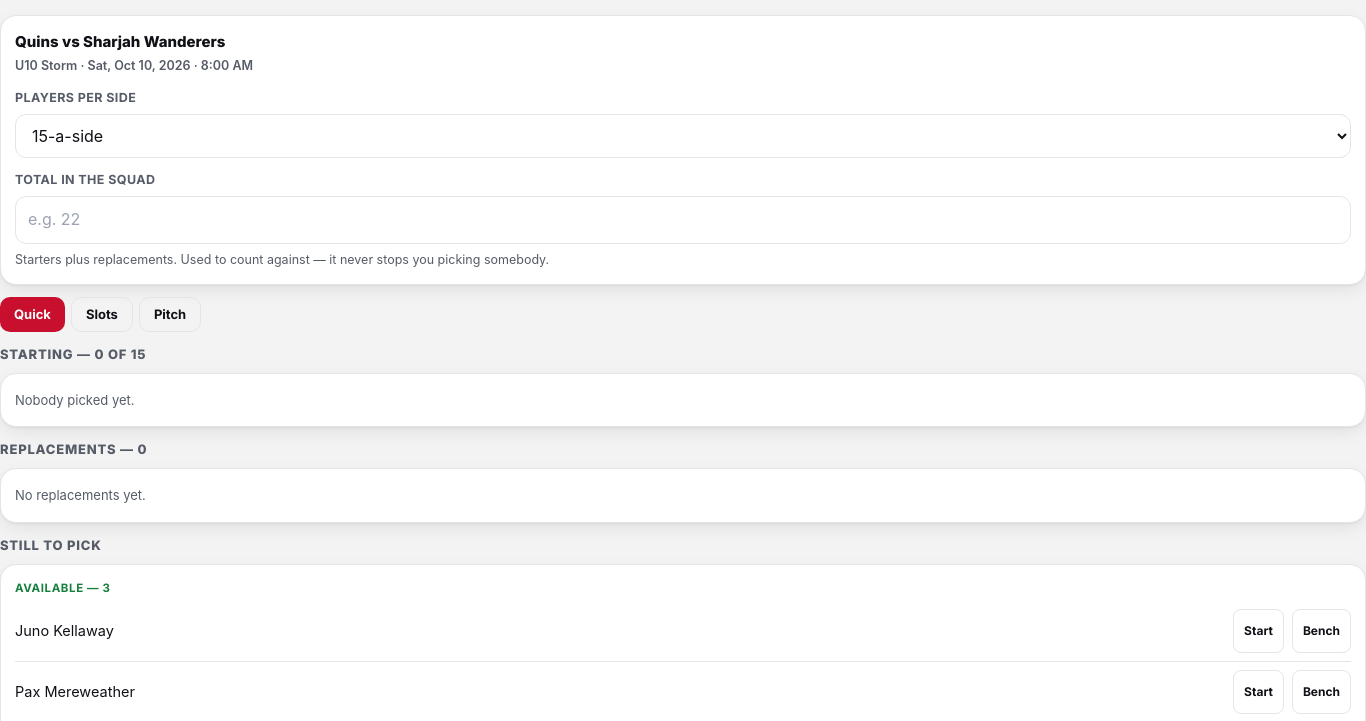
the slots view › fills the exact tapped shirt, not the first free one
This screenshot has width=1366, height=721.
expect the button "Quick" is shown: met, box [0,297,65,332]
Select "7-a-side" in the dropdown labelled "Players per side" at [683, 136], box [15,114,1351,158]
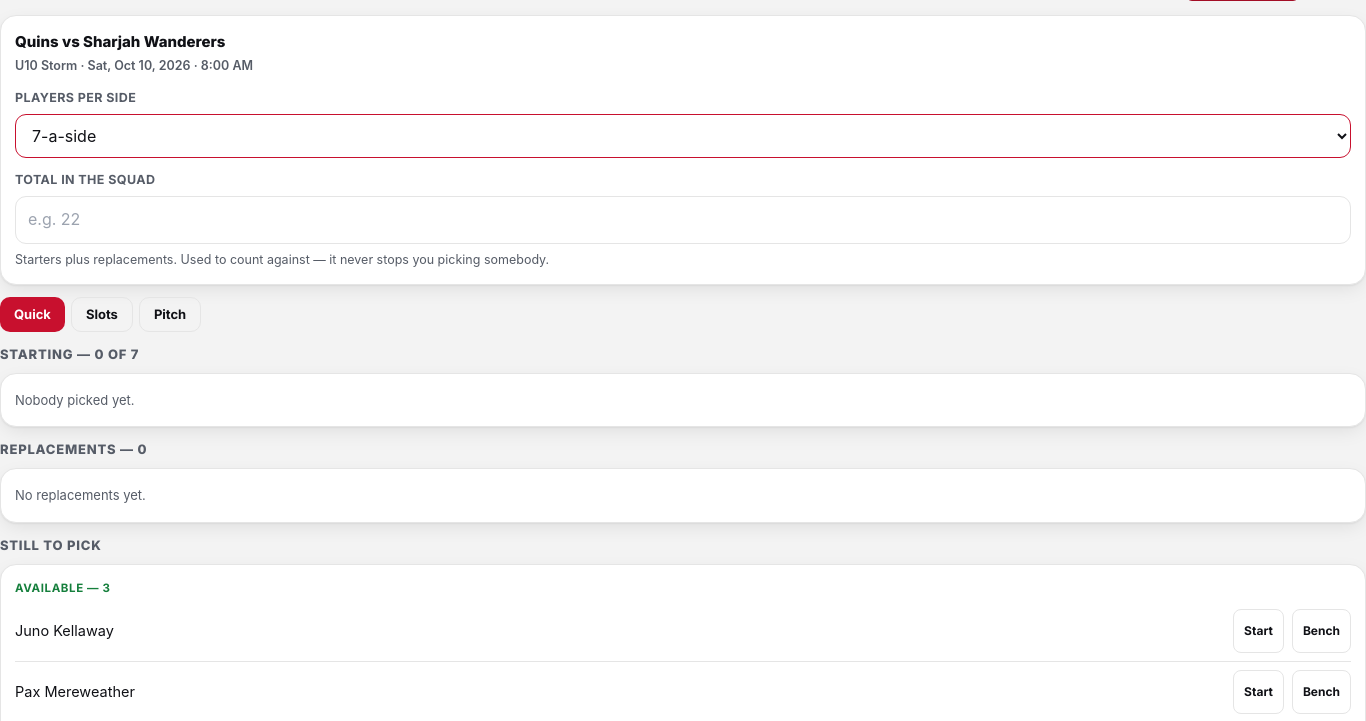
Click the button "Slots" at [102, 314], box [71,297,133,332]
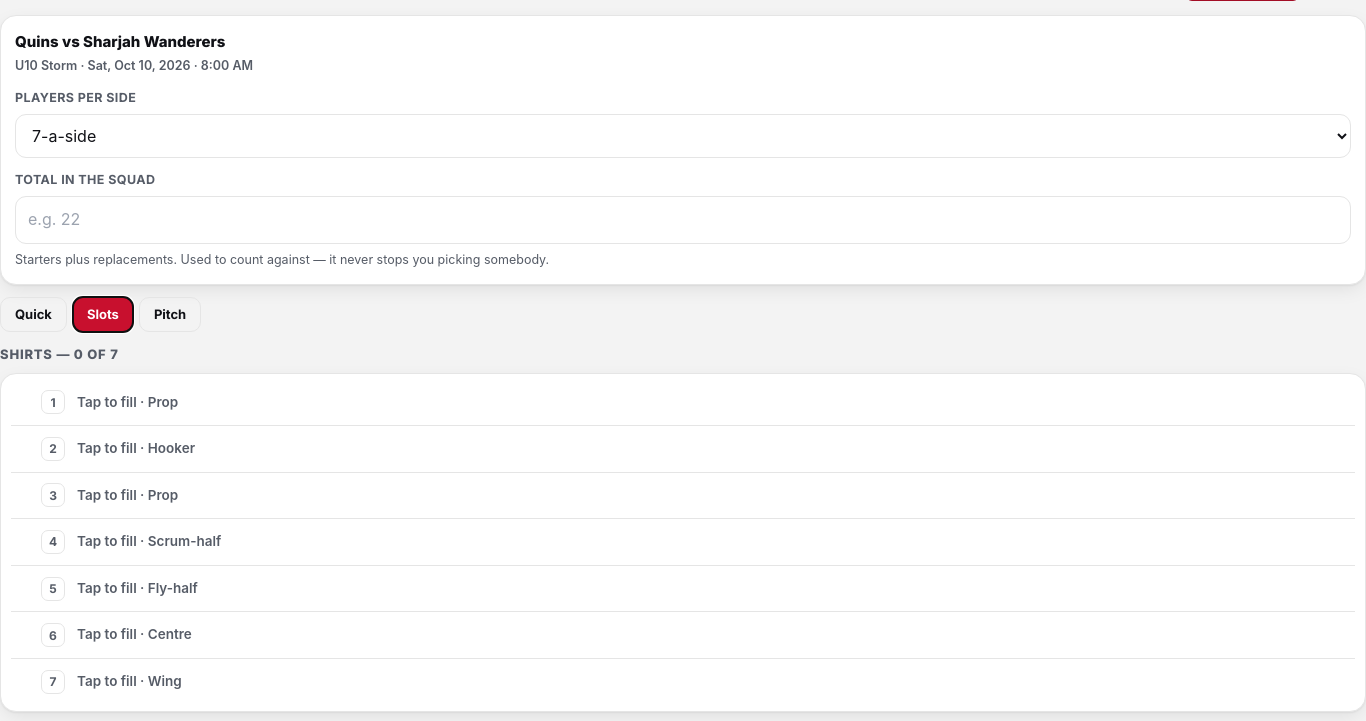
Click the button "Tap to fill · Fly-half" at [137, 588], box [73,574,1355,604]
(page scrolled)
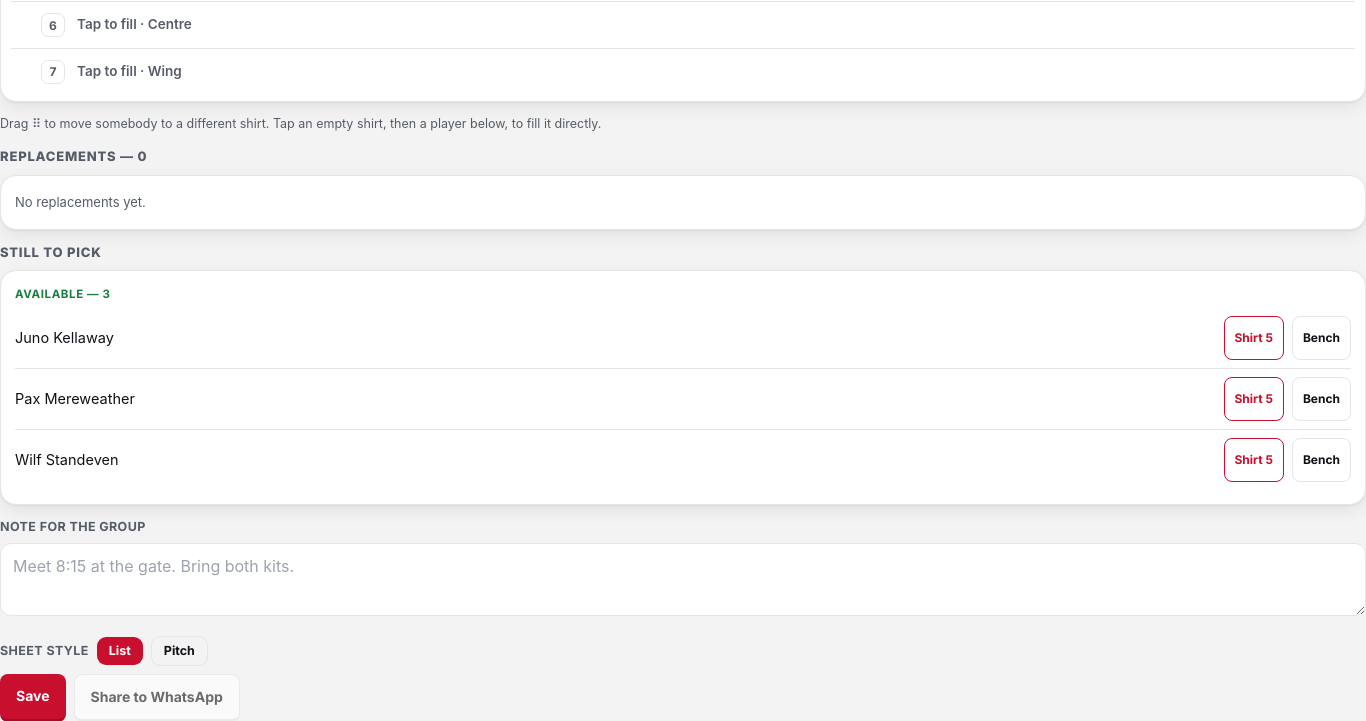
Click the button with aria-label "Give shirt 5 to Juno Kellaway" at [1254, 338], box [1224,316,1284,360]
(page scrolled)
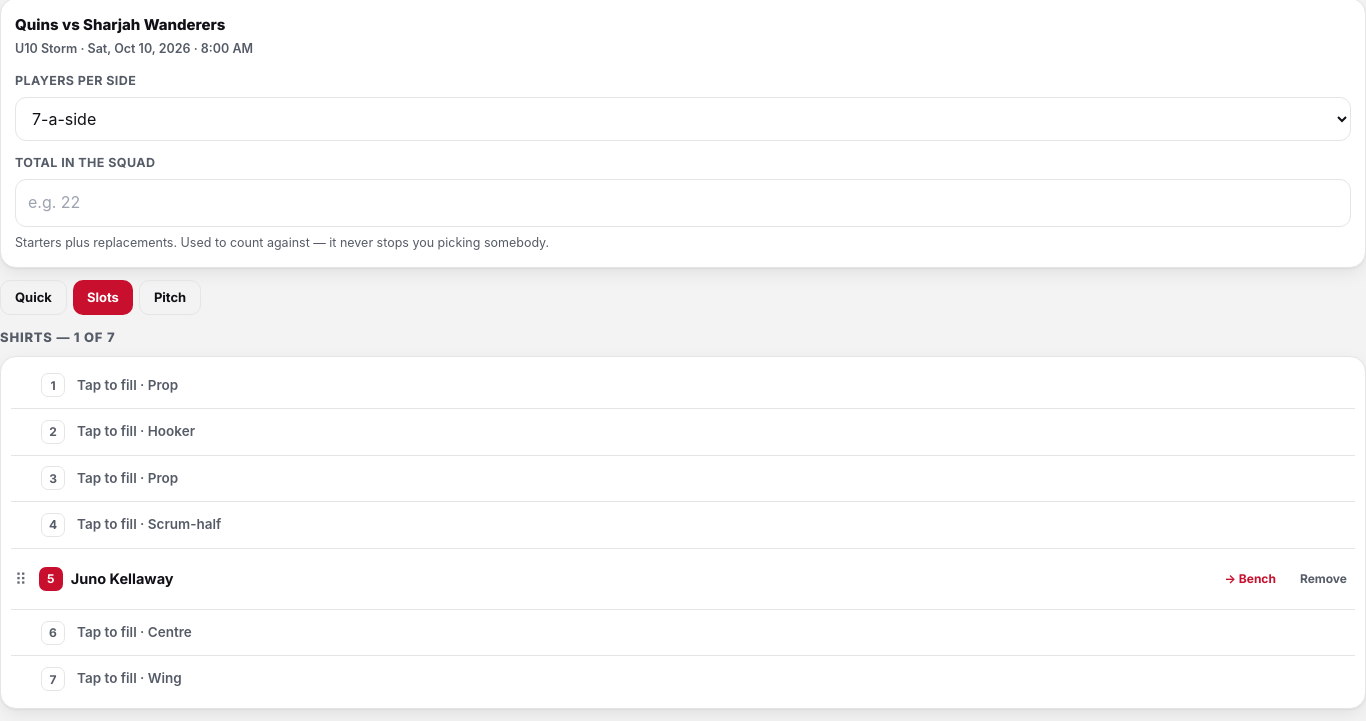
expect the text "⠿" is shown: met, box [15,569,27,589]
expect the number of buttons "Tap to fill · Prop" is 6: met, box [73,370,1355,400]; [73,417,1355,447]; [73,464,1355,493]; [73,510,1355,540]; [73,618,1355,648]; [73,664,1355,694]
expect the heading "Shirts — 1 of 7" is shown: met, box [0,327,115,348]
